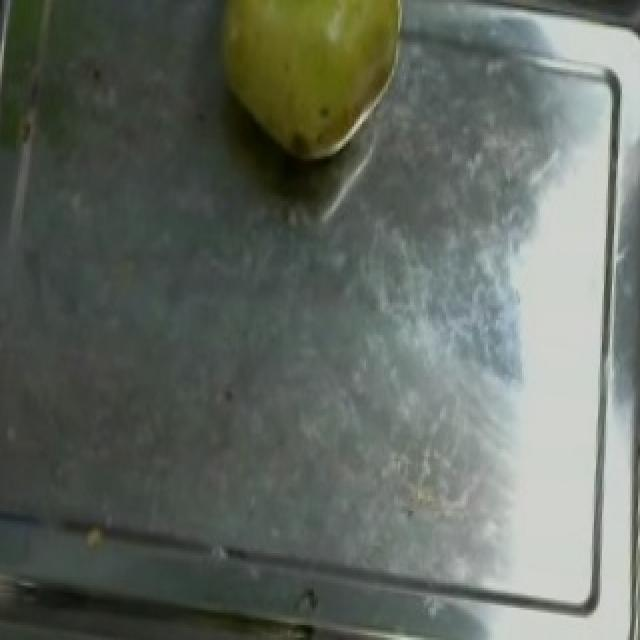fruit: (186, 2, 436, 178)
